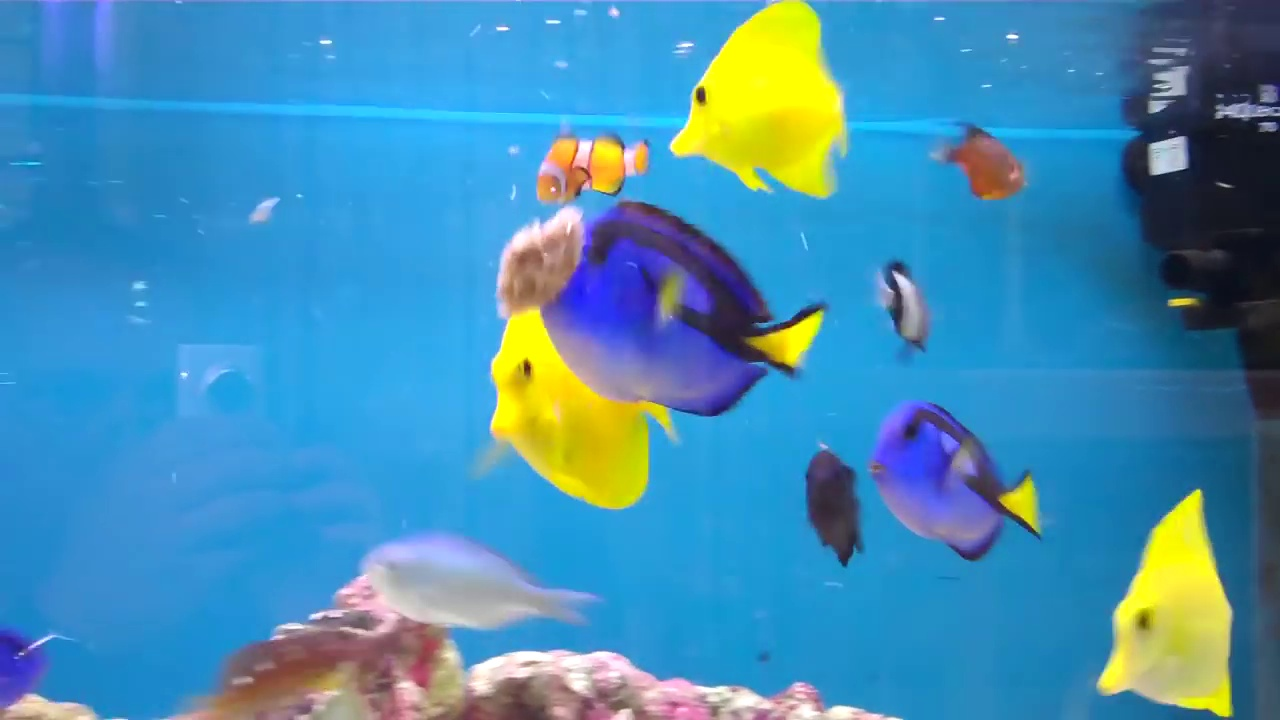blue tang surgeonfish: (531, 203, 808, 434), (857, 382, 1049, 576)
damselfish: (350, 517, 600, 630)
saddle butterfly fish: (463, 281, 675, 508), (659, 0, 862, 208), (1096, 482, 1254, 720)
